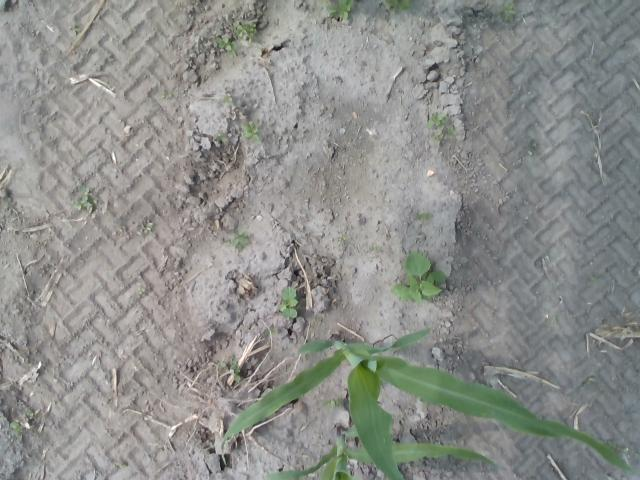Maize: (220, 327, 632, 476), (259, 423, 496, 480)
Weeds: (389, 251, 447, 305), (426, 111, 456, 146), (278, 286, 298, 318), (71, 183, 93, 210), (232, 20, 258, 42), (328, 0, 355, 20), (226, 228, 248, 252), (215, 36, 238, 57), (498, 1, 516, 22), (242, 121, 260, 142), (227, 356, 241, 382), (606, 439, 630, 454), (384, 0, 413, 12), (10, 421, 26, 436), (322, 398, 343, 408), (526, 140, 538, 156), (69, 21, 80, 36), (416, 212, 432, 221), (222, 94, 235, 105), (142, 222, 154, 233), (217, 362, 226, 376), (336, 234, 346, 246), (419, 396, 429, 408), (216, 132, 228, 142), (160, 90, 172, 99), (264, 328, 276, 336), (369, 245, 380, 253), (117, 460, 128, 468), (320, 0, 331, 7), (588, 275, 598, 282), (26, 408, 34, 416), (136, 288, 145, 295), (586, 377, 595, 383)
